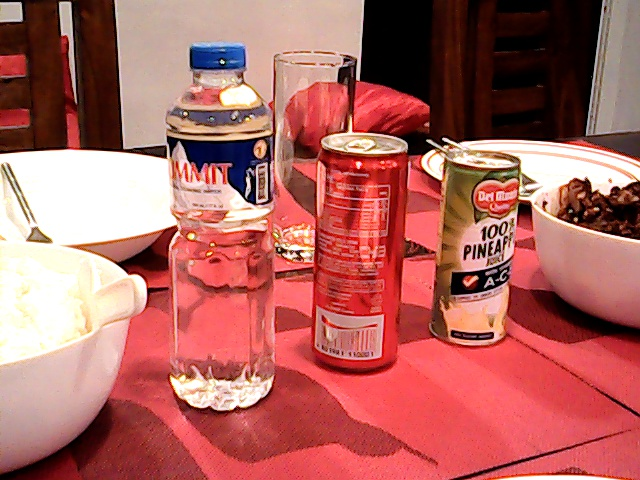Cola: (308, 123, 409, 375)
Pine Juice: (429, 134, 523, 357)
Summit Water: (159, 41, 288, 410)
